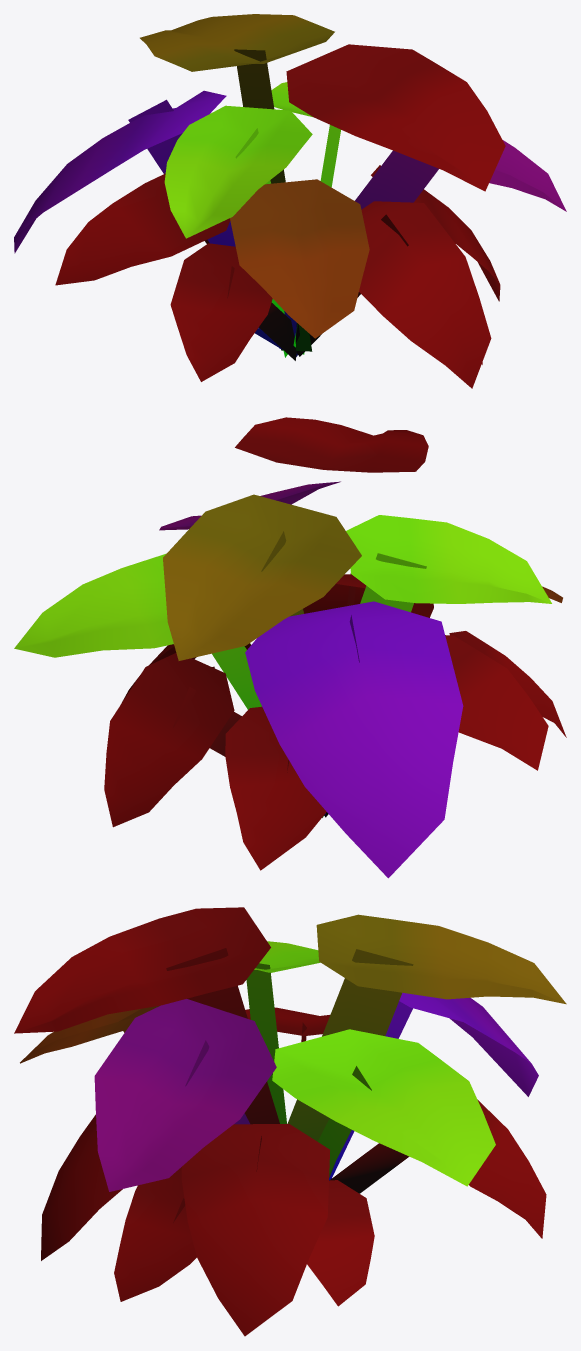
The model's file is Elephant_ear_var4.fbx.
The picture shows the model from 3 angles, top to bottom: view 1: azimuth 30°, elevation 25°; view 2: azimuth 150°, elevation 25°; view 3: azimuth 270°, elevation 25°; orthographic projection. The views are drawn at different scales.
Parts seen in each view (by area): view 1: Elephant_Ear_var4_LOD0; view 2: Elephant_Ear_var4_LOD0; view 3: Elephant_Ear_var4_LOD0.
Boxes of the visible parts, bbox=[...] form: Elephant_Ear_var4_LOD0: bbox=[14, 14, 566, 388]; Elephant_Ear_var4_LOD0: bbox=[14, 417, 566, 878]; Elephant_Ear_var4_LOD0: bbox=[14, 907, 566, 1336].
Size of what is drawn, in the model's own units: 14.11 by 9.8 by 14.53.
